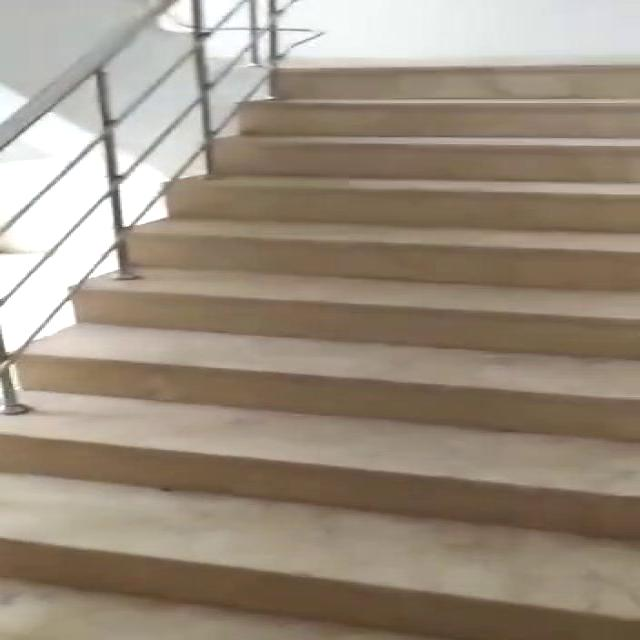stair: (4, 59, 640, 640)
